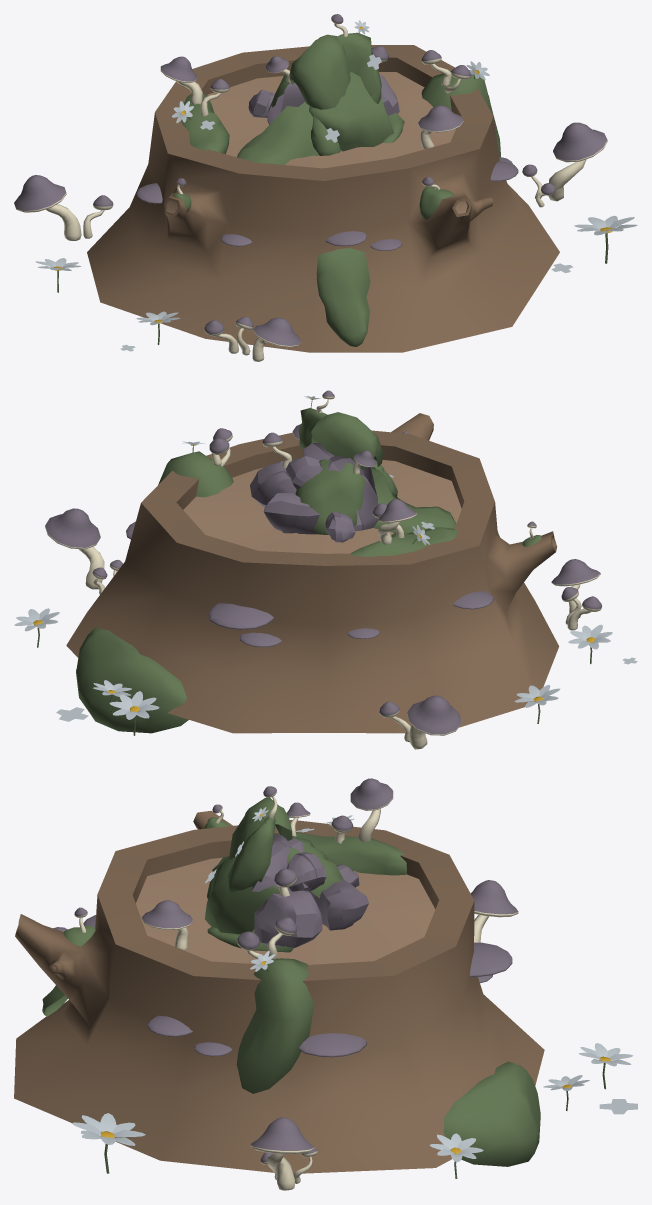
File: P_Stump_painting_03_LD.fbx
3 views of the same model, one above another, from view 1: azimuth 30°, elevation 25°; view 2: azimuth 150°, elevation 25°; view 3: azimuth 270°, elevation 25° (orthographic). The views are drawn at different scales.
Visible parts, largest first — view 1: P_Stump_painting_03; view 2: P_Stump_painting_03; view 3: P_Stump_painting_03.
Part boxes in pixels (x1,y1,x2,y2): P_Stump_painting_03: (14,14,637,361); P_Stump_painting_03: (14,390,637,749); P_Stump_painting_03: (14,778,637,1190).
Size of the model in its own units: 297 by 146 by 264.
Materials: 1 (1 with a texture image).
